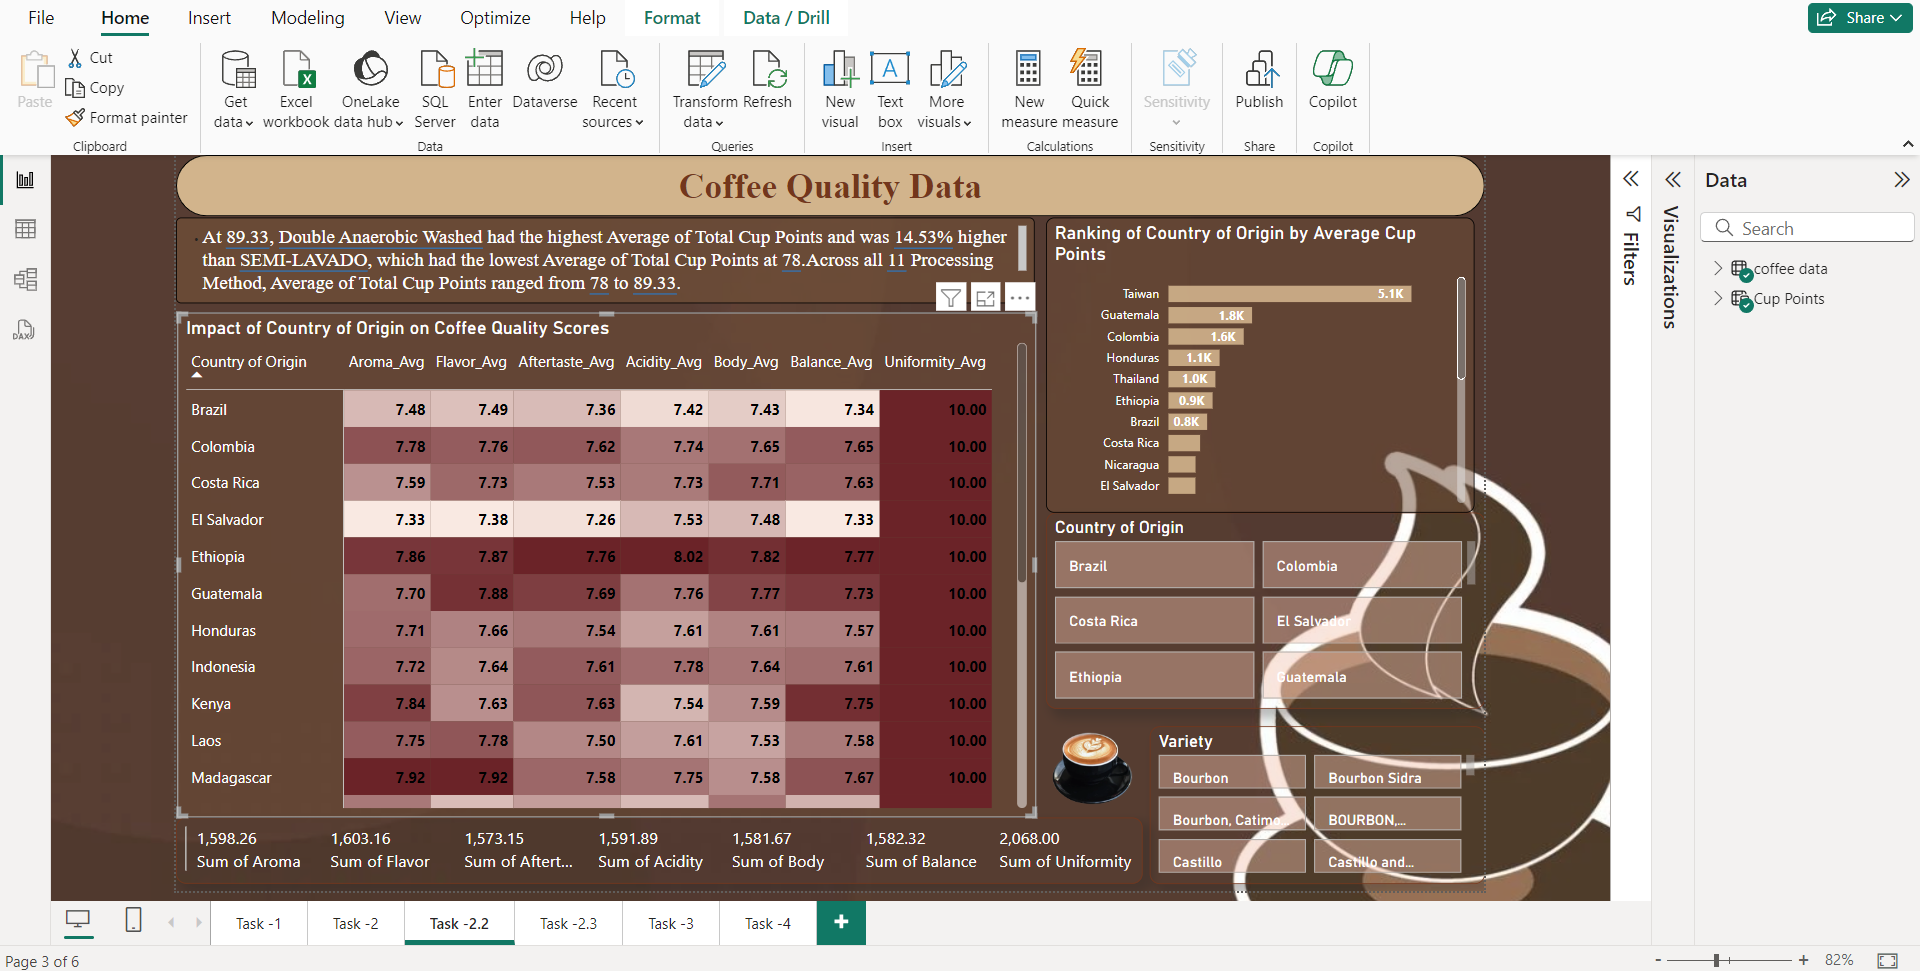

The page's visual inventory and layout, read from the dashboard file:
{"tool":"powerbi","page":{"name":"Task -2.2","canvas":[1280,720],"ordinal":2},"visuals":[{"type":"shape","box":[0,0,1280.3,59.9],"z":0},{"type":"multiRowCard","fields":{"Values":["Sum(Cup Points.Aroma)","Sum(Cup Points.Flavor)","Sum(Cup Points.Aftertaste)","Sum(Cup Points.Acidity)","Sum(Cup Points.Body)","Sum(Cup Points.Balance)","Sum(coffee data.Uniformity)"]},"box":[0,648.1,945.2,64.8],"z":1000},{"type":"advancedSlicerVisual","fields":{"Values":["coffee data.Country of Origin"]},"box":[851.1,349.7,429.2,192],"z":2000},{"type":"advancedSlicerVisual","fields":{"Values":["coffee data.Variety"]},"box":[952.6,558.8,327.7,154.1],"z":3000},{"type":"clusteredBarChart","title":"Ranking of Country of Origin by Average Cup Points","fields":{"Y":["Sum(coffee data.Total Cup Points)"],"Category":["coffee data.Country of Origin"]},"box":[851.1,61.1,419.4,288.6],"z":4000},{"type":"pivotTable","title":"Impact of Country of Origin on Coffee Quality Scores","fields":{"Values":["Cup Points.Aroma_Avg","Cup Points.Flavor_Avg","Cup Points.Aftertaste_Avg","Cup Points.Acidity_Avg","Cup Points.Body_Avg","Cup Points.Balance_Avg","Cup Points.Uniformity_Avg"],"Rows":["coffee data.Country of Origin"]},"box":[1.2,154.1,840.1,494],"z":5000},{"type":"textbox","box":[0,61.1,840.1,84.4],"z":6000},{"type":"image","box":[841.3,550.3,105.2,97.8],"z":7000}]}

Visuals, with their boxes on the page's 1280x720 design canvas (x1, y1, x2, y2). These are canvas units, not pixel positions in the 1920x971 screenshot, which may show the page scaled, cropped or inside an application window:
shape: <region>0, 0, 1280, 60</region>
multiRowCard - Sum(Cup Points.Aroma) x Sum(Cup Points.Flavor): <region>0, 648, 945, 713</region>
advancedSlicerVisual - coffee data.Country of Origin: <region>851, 350, 1280, 542</region>
advancedSlicerVisual - coffee data.Variety: <region>953, 559, 1280, 713</region>
"Ranking of Country of Origin by Average Cup Points" clusteredBarChart: <region>851, 61, 1270, 350</region>
"Impact of Country of Origin on Coffee Quality Scores" pivotTable: <region>1, 154, 841, 648</region>
textbox: <region>0, 61, 840, 146</region>
image: <region>841, 550, 946, 648</region>
